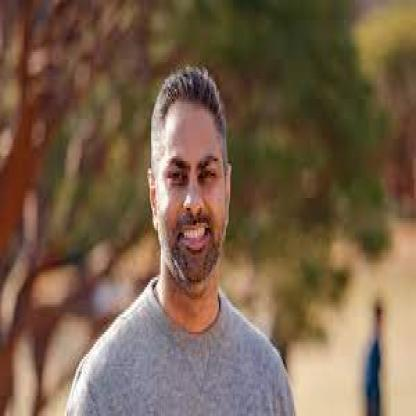person: (128, 73, 246, 414)
